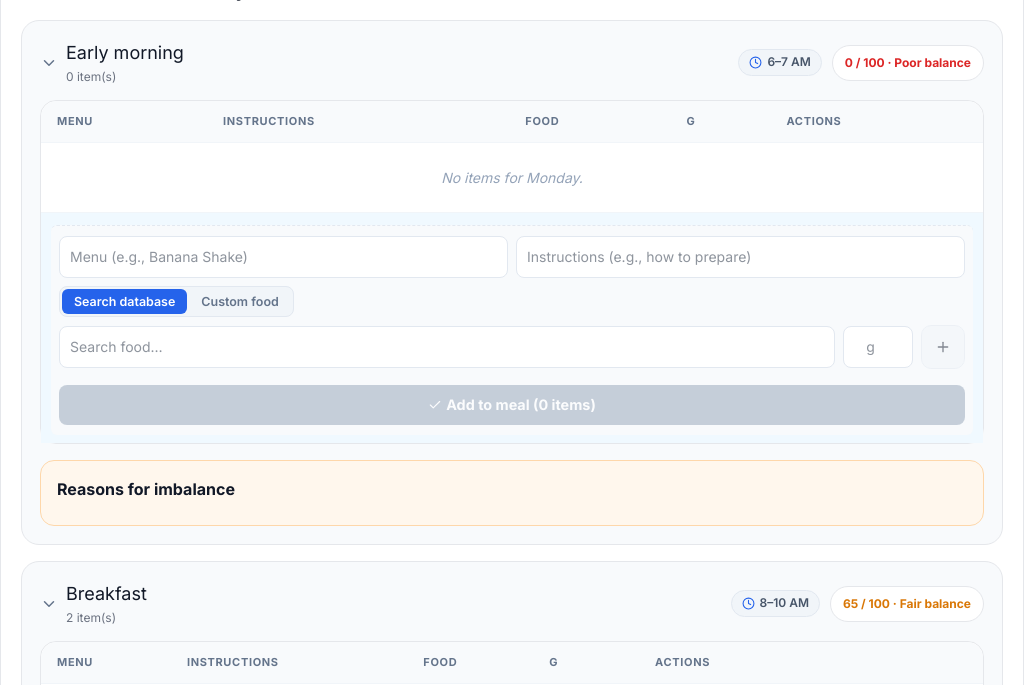
Test: MealBuilder › collapses and expands meal slots on click
Collapse Breakfast slot
Click the button "Breakfast" at (106, 594), box [40,580,984,627]
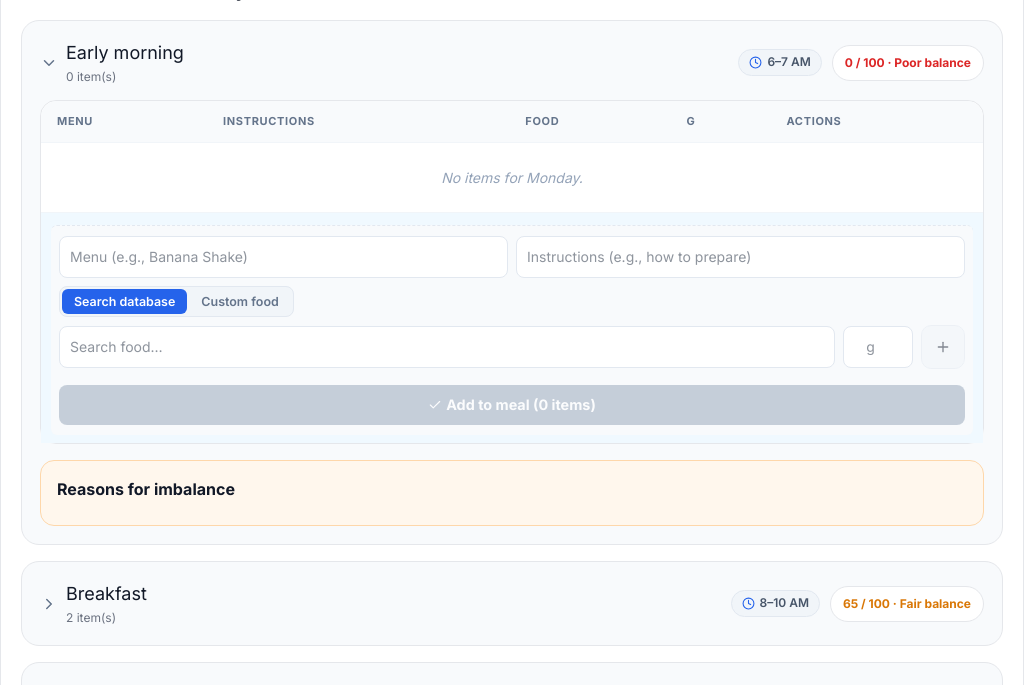
Expand again
Click the button "Breakfast" at (106, 594), box [40,580,984,627]
(page scrolled)
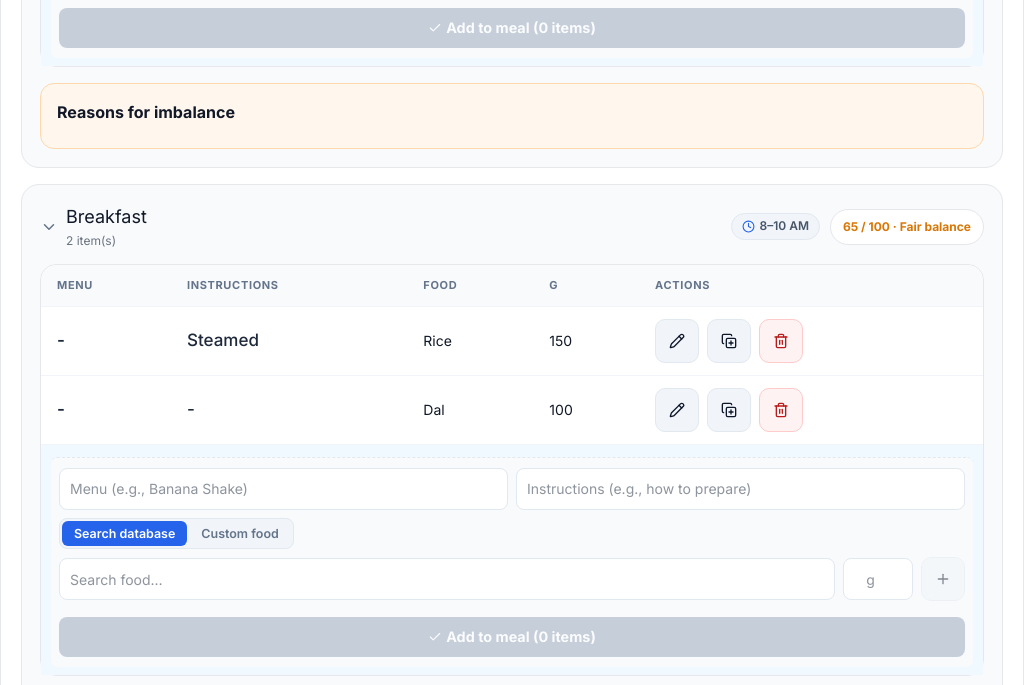
Expected: the text "Rice" is shown, [423,330,452,351]
